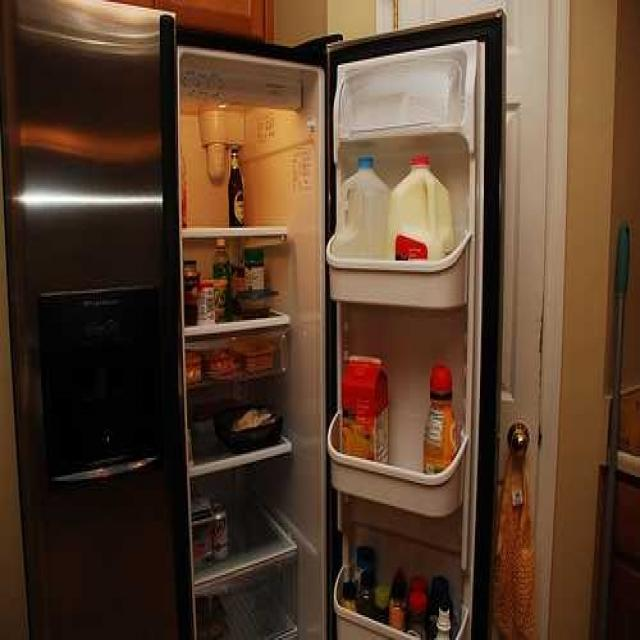refrigerator: (11, 9, 508, 640)
